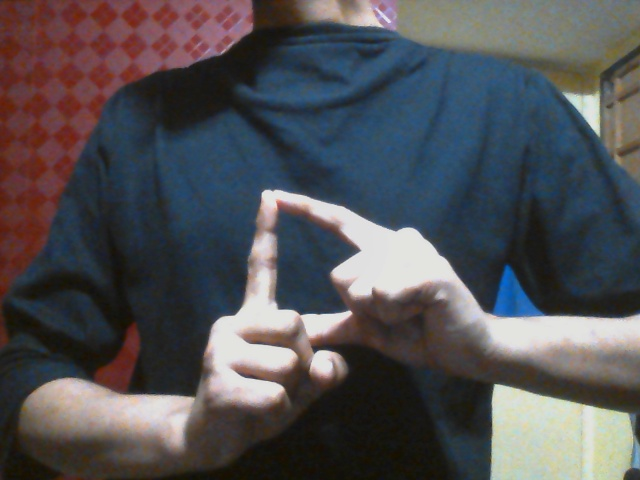D: (194, 187, 485, 471)
